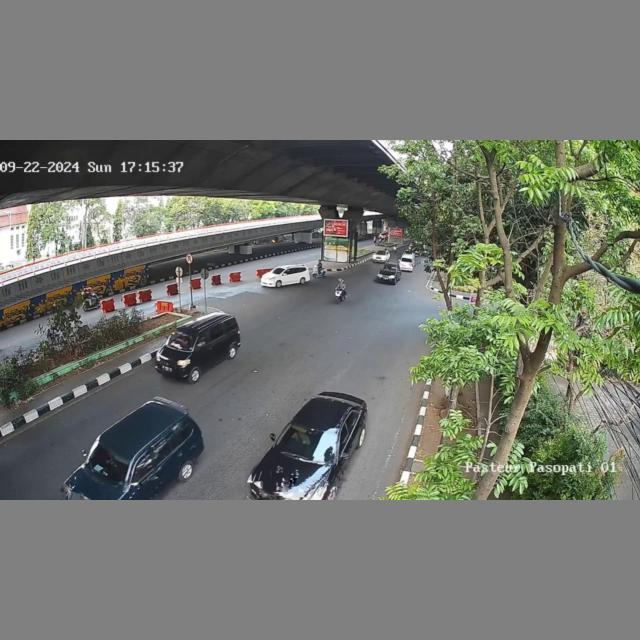windshield: (275, 424, 341, 461), (86, 444, 132, 487), (165, 331, 198, 351)
